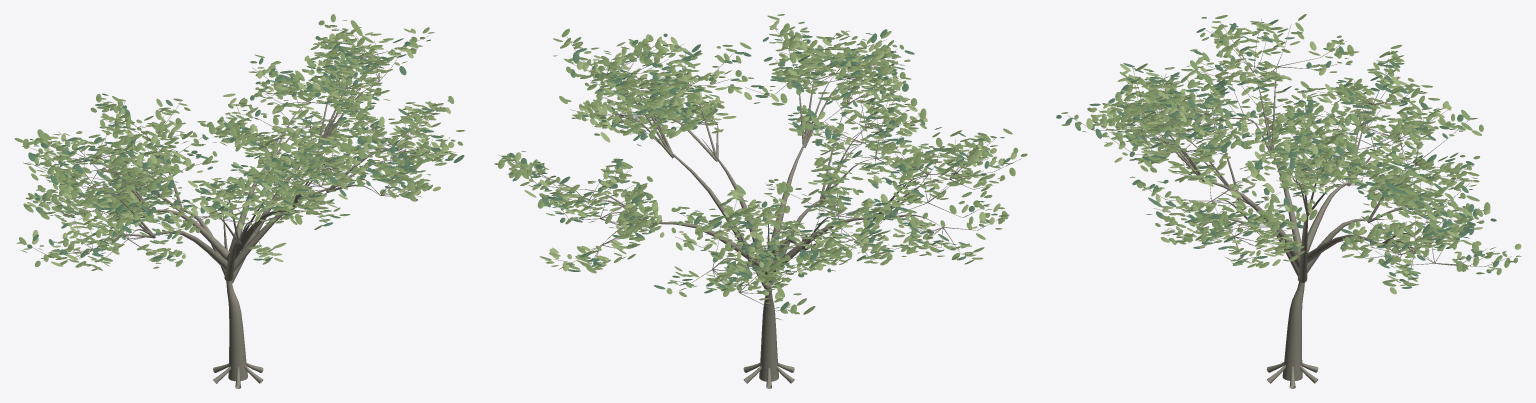
Rendered from tree0c.glb.
3 views of the same model, side by side, from view 1: azimuth 30°, elevation 25°; view 2: azimuth 150°, elevation 25°; view 3: azimuth 270°, elevation 25° (orthographic). The views are drawn at different scales.
Visible parts, largest first — view 1: Tree0c_Leaf, Tree0c_LeafLight, Tree0c_Trunk, Tree0c_LeafDark; view 2: Tree0c_Leaf, Tree0c_LeafLight, Tree0c_Trunk, Tree0c_LeafDark; view 3: Tree0c_Leaf, Tree0c_LeafLight, Tree0c_Trunk, Tree0c_LeafDark.
Part boxes in pixels (x1,y1,x2,y2): Tree0c_Leaf: [14, 14, 465, 270]; Tree0c_LeafLight: [23, 20, 454, 266]; Tree0c_Trunk: [26, 25, 455, 388]; Tree0c_LeafDark: [27, 36, 464, 261]; Tree0c_Leaf: [494, 14, 1027, 319]; Tree0c_LeafLight: [510, 20, 1016, 314]; Tree0c_Trunk: [498, 29, 1021, 388]; Tree0c_LeafDark: [508, 26, 1013, 311]; Tree0c_Leaf: [1061, 14, 1517, 286]; Tree0c_LeafLight: [1086, 21, 1521, 294]; Tree0c_Trunk: [1068, 19, 1511, 388]; Tree0c_LeafDark: [1056, 19, 1499, 288].
Bounding box in the file's own units: 12.32 × 8.82 × 11.51.
